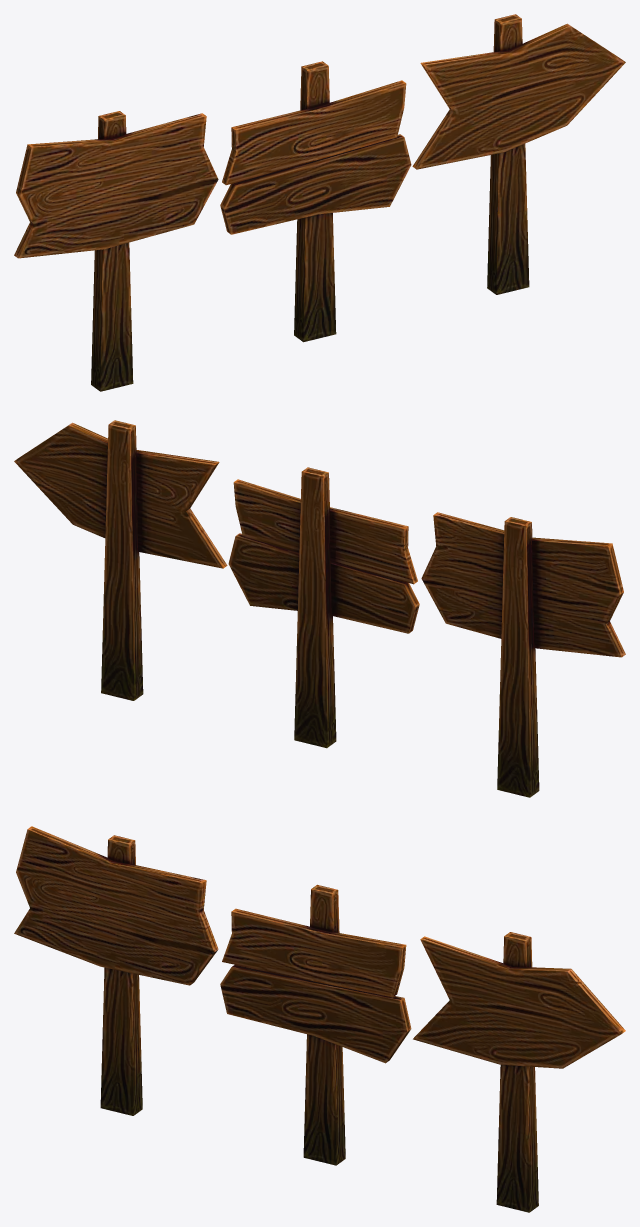
The model's file is wood-signs.glb.
3 views of the same model, one above another, from view 1: azimuth 30°, elevation 25°; view 2: azimuth 150°, elevation 25°; view 3: azimuth 330°, elevation 25° (orthographic).
Visible parts, largest first — view 1: sign1, sign2, sign3; view 2: sign1, sign2, sign3; view 3: sign1, sign2, sign3.
Boxes of the visible parts, x1,y1,x2,y2 form: sign1: (14,111,218,391); sign2: (220,61,411,342); sign3: (412,14,625,294); sign1: (421,512,625,797); sign2: (228,467,419,748); sign3: (14,420,227,700); sign1: (14,826,218,1115); sign2: (220,884,411,1165); sign3: (413,932,625,1212).
Size of the model in its own units: 2.84 by 1.2 by 0.0939.
1 material, 1 textured.
